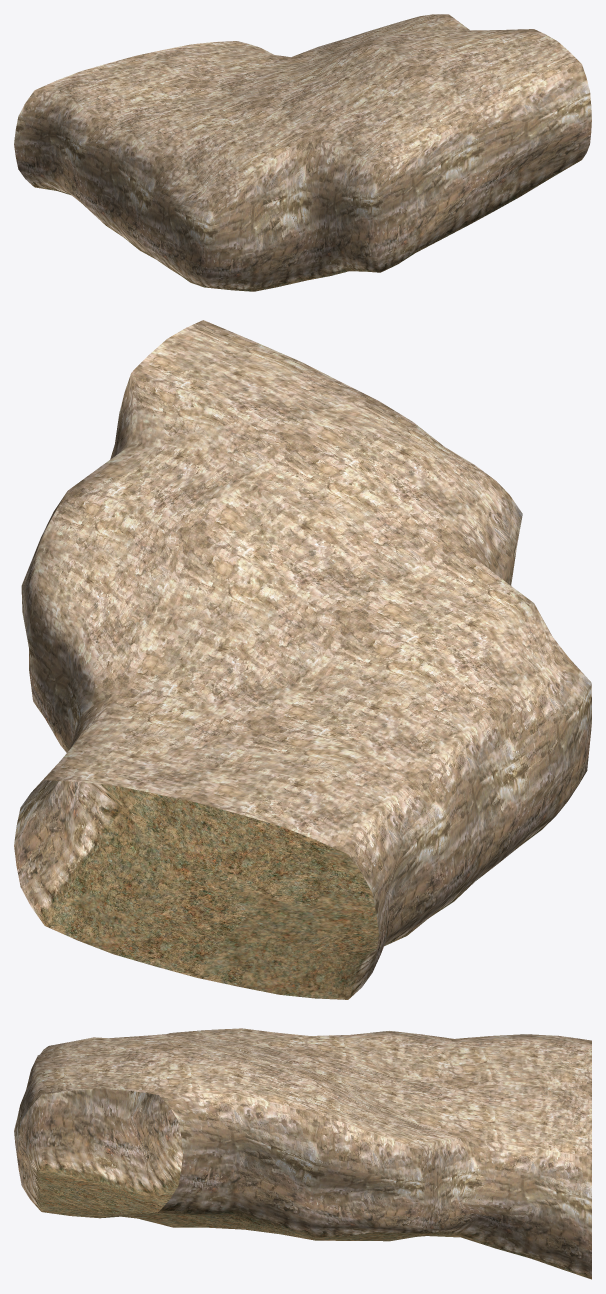
The model's file is thm_all_cave_flatland_s03_r4_mesh_r4.fbx.
3 renders of one model, top to bottom at view 1: azimuth 30°, elevation 25°; view 2: azimuth 150°, elevation 25°; view 3: azimuth 270°, elevation 25°, orthographic. The views are drawn at different scales.
Parts seen in each view (by area): view 1: mesh_node; view 2: mesh_node; view 3: mesh_node.
Boxes of the visible parts, x1=… form: mesh_node: x1=14, y1=14, x2=591, y2=291; mesh_node: x1=14, y1=320, x2=591, y2=999; mesh_node: x1=14, y1=1028, x2=591, y2=1279.
Size of the model in its own units: 26.79 by 16.79 by 32.05.
